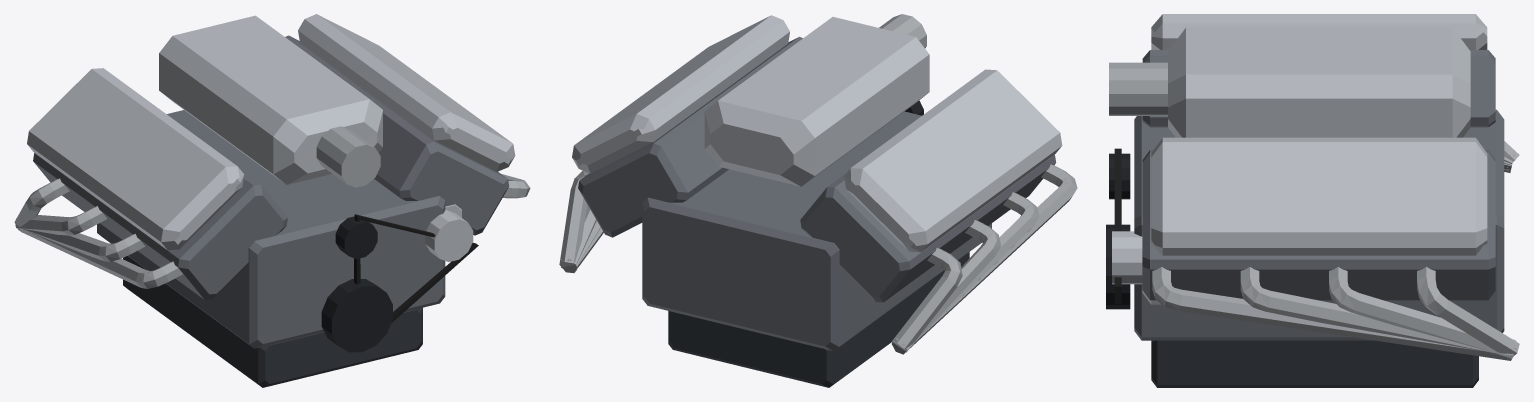
The model's file is crate_v12_kugel.glb.
The picture shows the model from 3 angles, left to right: view 1: azimuth 30°, elevation 25°; view 2: azimuth 150°, elevation 25°; view 3: azimuth 270°, elevation 25°; orthographic projection. The views are drawn at different scales.
Visible parts, largest first — view 1: model; view 2: model; view 3: model.
Part boxes in pixels (x1=…): model: x1=14, y1=14, x2=530, y2=387; model: x1=559, y1=14, x2=1077, y2=387; model: x1=1106, y1=14, x2=1519, y2=387.
Size of the model in its own units: 0.8751 by 0.5376 by 0.689.
3 materials, 1 textured.
